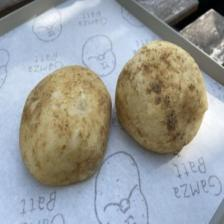Potato: (18, 63, 112, 188), (114, 38, 208, 156)
